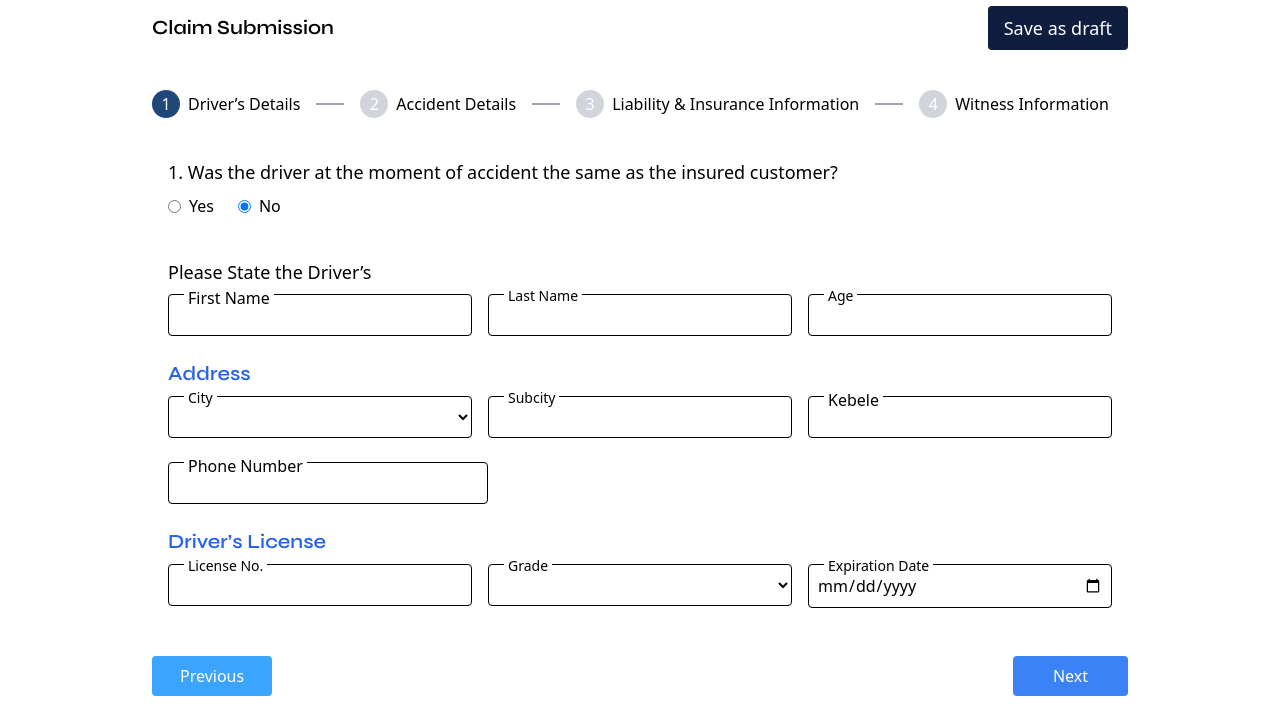
Test case: ClaimDriverDetails › shows error when required fields are missing and driver is different
(page scrolled)
Click the button "Next" at (1070, 676), box [1013,656,1128,696]
(page scrolled)
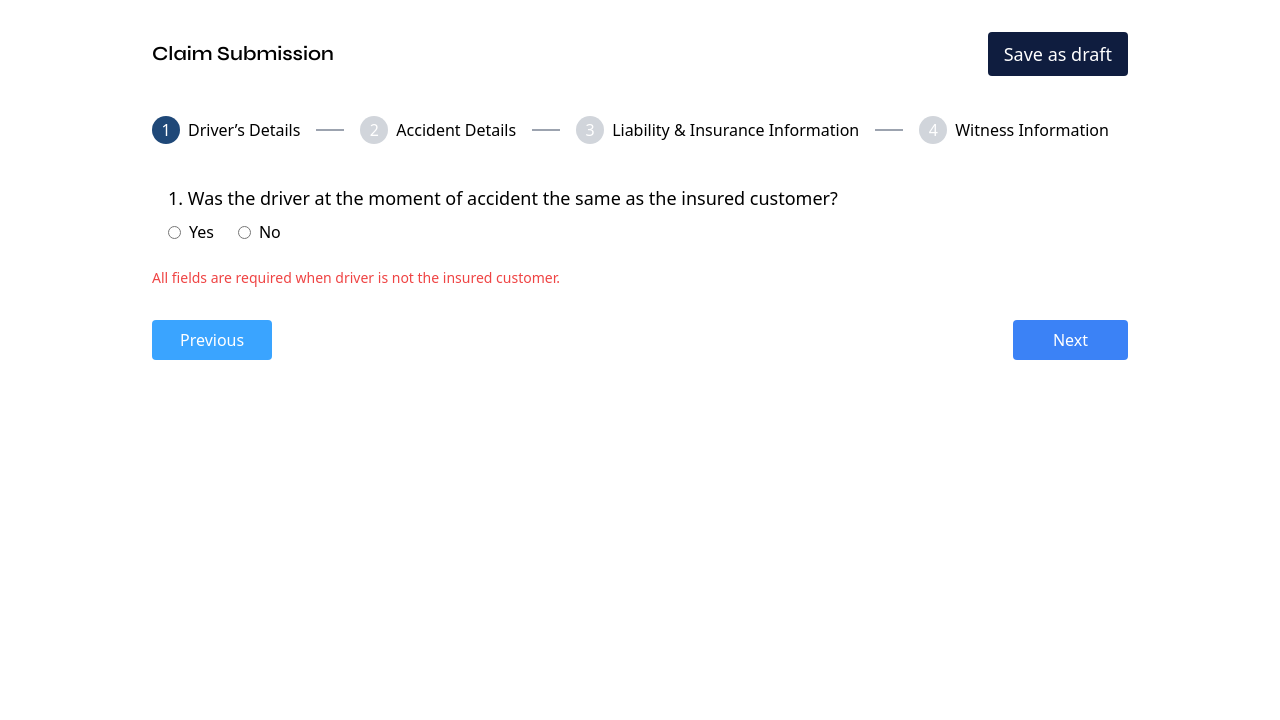
Expected: the text "All fields are required when driver is not the insured customer." is shown, [152,268,560,287]
